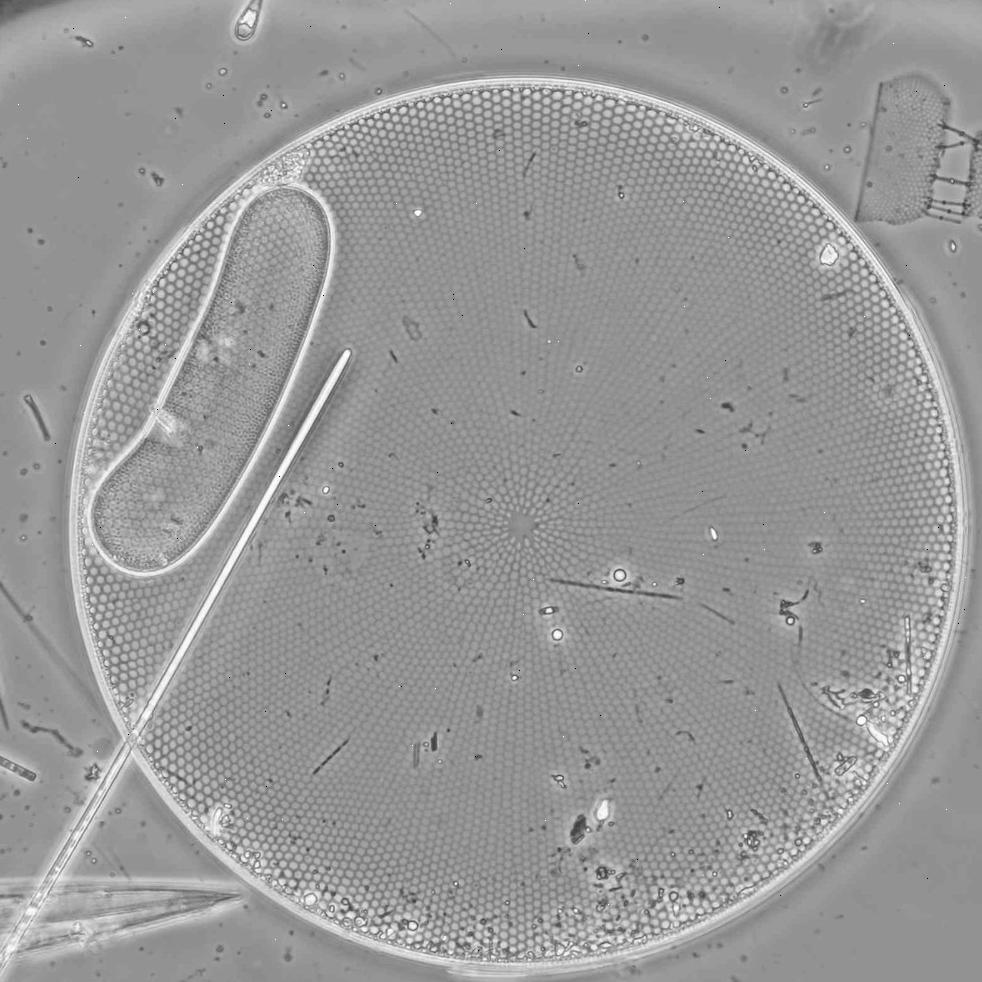coscinodiscus_oculus_iridis: (70, 65, 971, 974)
